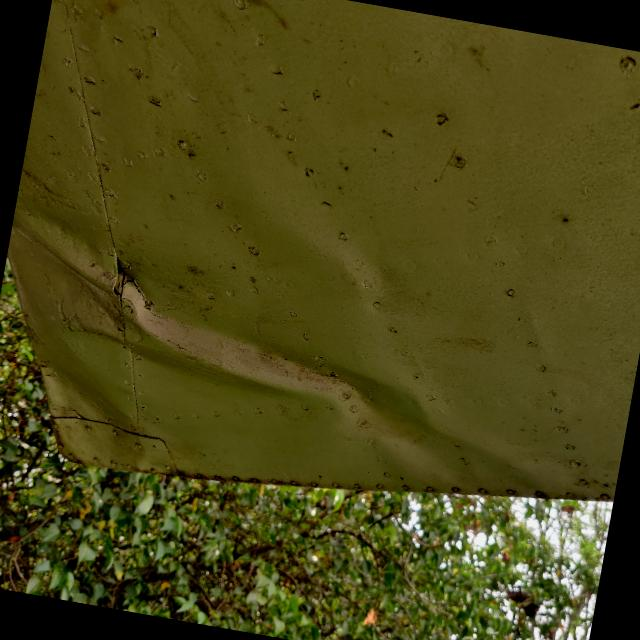dent: (0, 179, 602, 565), (21, 358, 162, 484)
